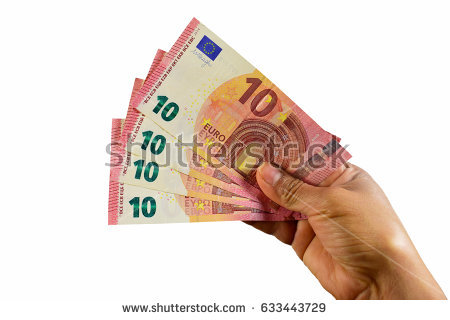billete: (106, 16, 354, 226)
